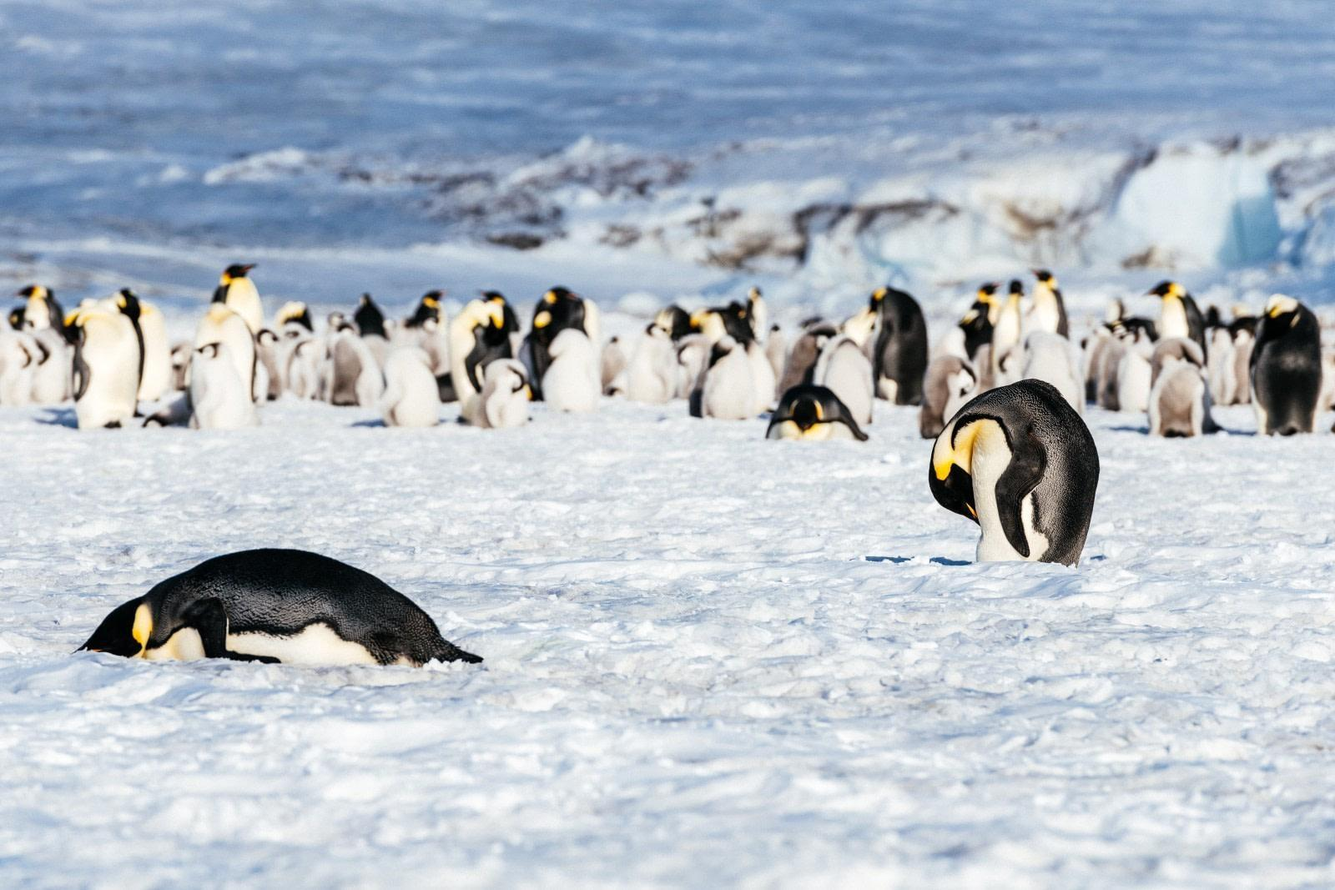Penguin: (81, 550, 482, 666), (929, 380, 1098, 564), (448, 290, 530, 427), (188, 283, 261, 428), (688, 306, 779, 421), (1252, 294, 1322, 435), (65, 299, 140, 430), (113, 288, 174, 417), (518, 286, 587, 399), (1146, 339, 1219, 438), (364, 334, 441, 425), (869, 287, 928, 404), (8, 307, 73, 405), (812, 334, 876, 425), (767, 383, 868, 440), (542, 331, 603, 415), (1023, 332, 1086, 413), (921, 354, 980, 437), (957, 281, 1001, 385), (778, 324, 836, 397), (328, 323, 378, 405), (1147, 282, 1204, 350), (1116, 316, 1154, 412), (994, 279, 1025, 387), (1205, 307, 1238, 407), (1025, 269, 1069, 339), (219, 264, 264, 331), (1230, 316, 1259, 404), (289, 341, 330, 401), (257, 330, 287, 404), (18, 287, 63, 334), (840, 311, 873, 359), (766, 324, 788, 377), (745, 287, 767, 339)
